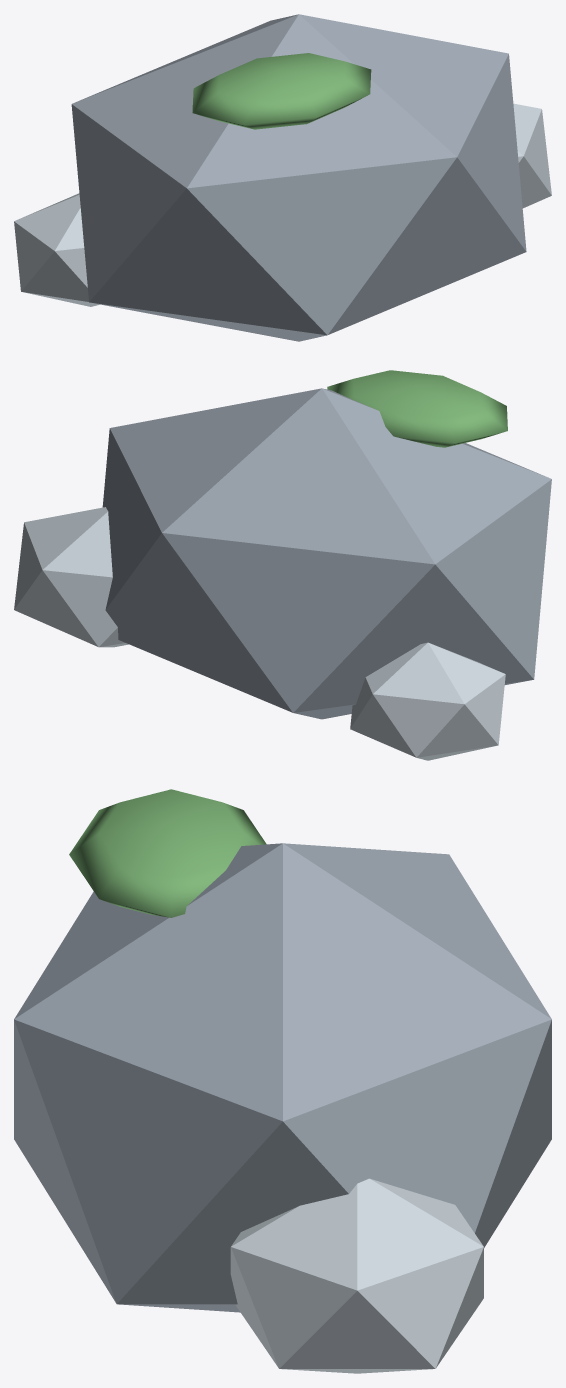
Rendered from resource_stone.glb.
3 renders of one model, top to bottom at view 1: azimuth 30°, elevation 25°; view 2: azimuth 150°, elevation 25°; view 3: azimuth 270°, elevation 25°, orthographic. The views are drawn at different scales.
Parts seen in each view (by area): view 1: resource_stone_root; view 2: resource_stone_root; view 3: resource_stone_root.
Boxes of the visible parts, left/top/right/bottom form: resource_stone_root: left=14, top=14, right=551, bottom=341; resource_stone_root: left=14, top=370, right=551, bottom=760; resource_stone_root: left=14, top=789, right=551, bottom=1373.
Size of the model in its own units: 0.8 by 0.5055 by 0.5222.
